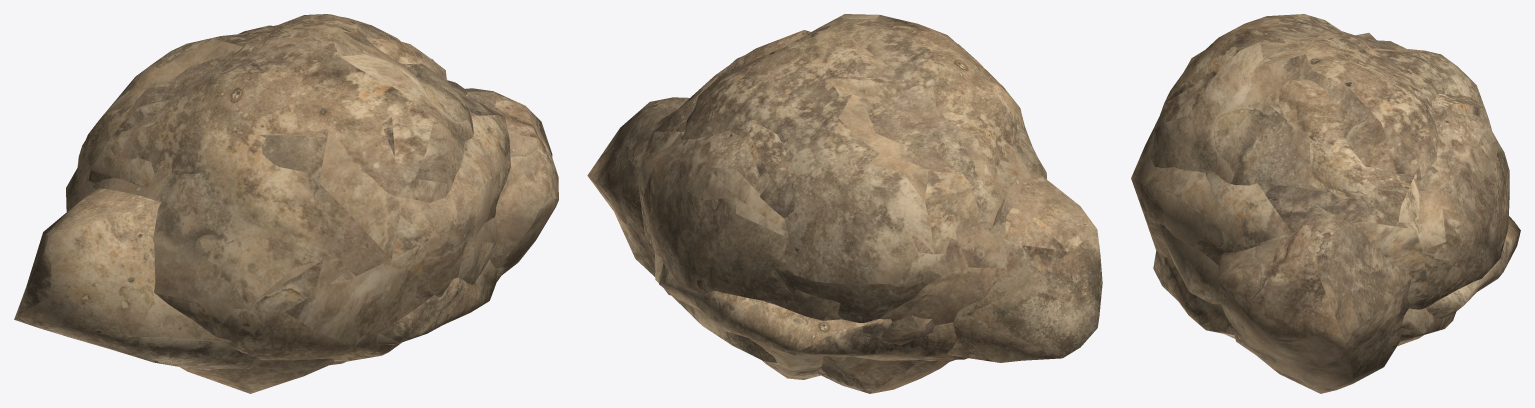
Rendered from rocks_desert.glb.
The picture shows the model from 3 angles, left to right: view 1: azimuth 30°, elevation 25°; view 2: azimuth 150°, elevation 25°; view 3: azimuth 270°, elevation 25°; orthographic projection. The views are drawn at different scales.
Visible parts, largest first — view 1: Rock_1, Rock_0, Rock_5, Rock_4, Rock_2, Rock_3; view 2: Rock_1, Rock_0, Rock_5, Rock_4, Rock_3, Rock_2; view 3: Rock_1, Rock_0, Rock_5, Rock_3, Rock_4, Rock_2.
Boxes of the visible parts, x1,y1,x2,y2 form: Rock_1: [77, 14, 499, 364]; Rock_0: [66, 80, 510, 363]; Rock_5: [14, 88, 558, 370]; Rock_4: [375, 259, 507, 345]; Rock_2: [180, 32, 488, 393]; Rock_3: [88, 25, 446, 209]; Rock_1: [650, 14, 1046, 322]; Rock_0: [638, 44, 1045, 393]; Rock_5: [587, 97, 1102, 362]; Rock_4: [659, 263, 967, 361]; Rock_3: [647, 30, 1017, 379]; Rock_2: [655, 55, 954, 362]; Rock_1: [1151, 14, 1491, 304]; Rock_0: [1131, 40, 1509, 341]; Rock_5: [1218, 205, 1411, 393]; Rock_3: [1278, 33, 1487, 345]; Rock_4: [1153, 216, 1520, 338]; Rock_2: [1206, 25, 1455, 341].
Size of the model in its own units: 1.32 by 0.7751 by 0.8986.
1 material, 1 textured.
